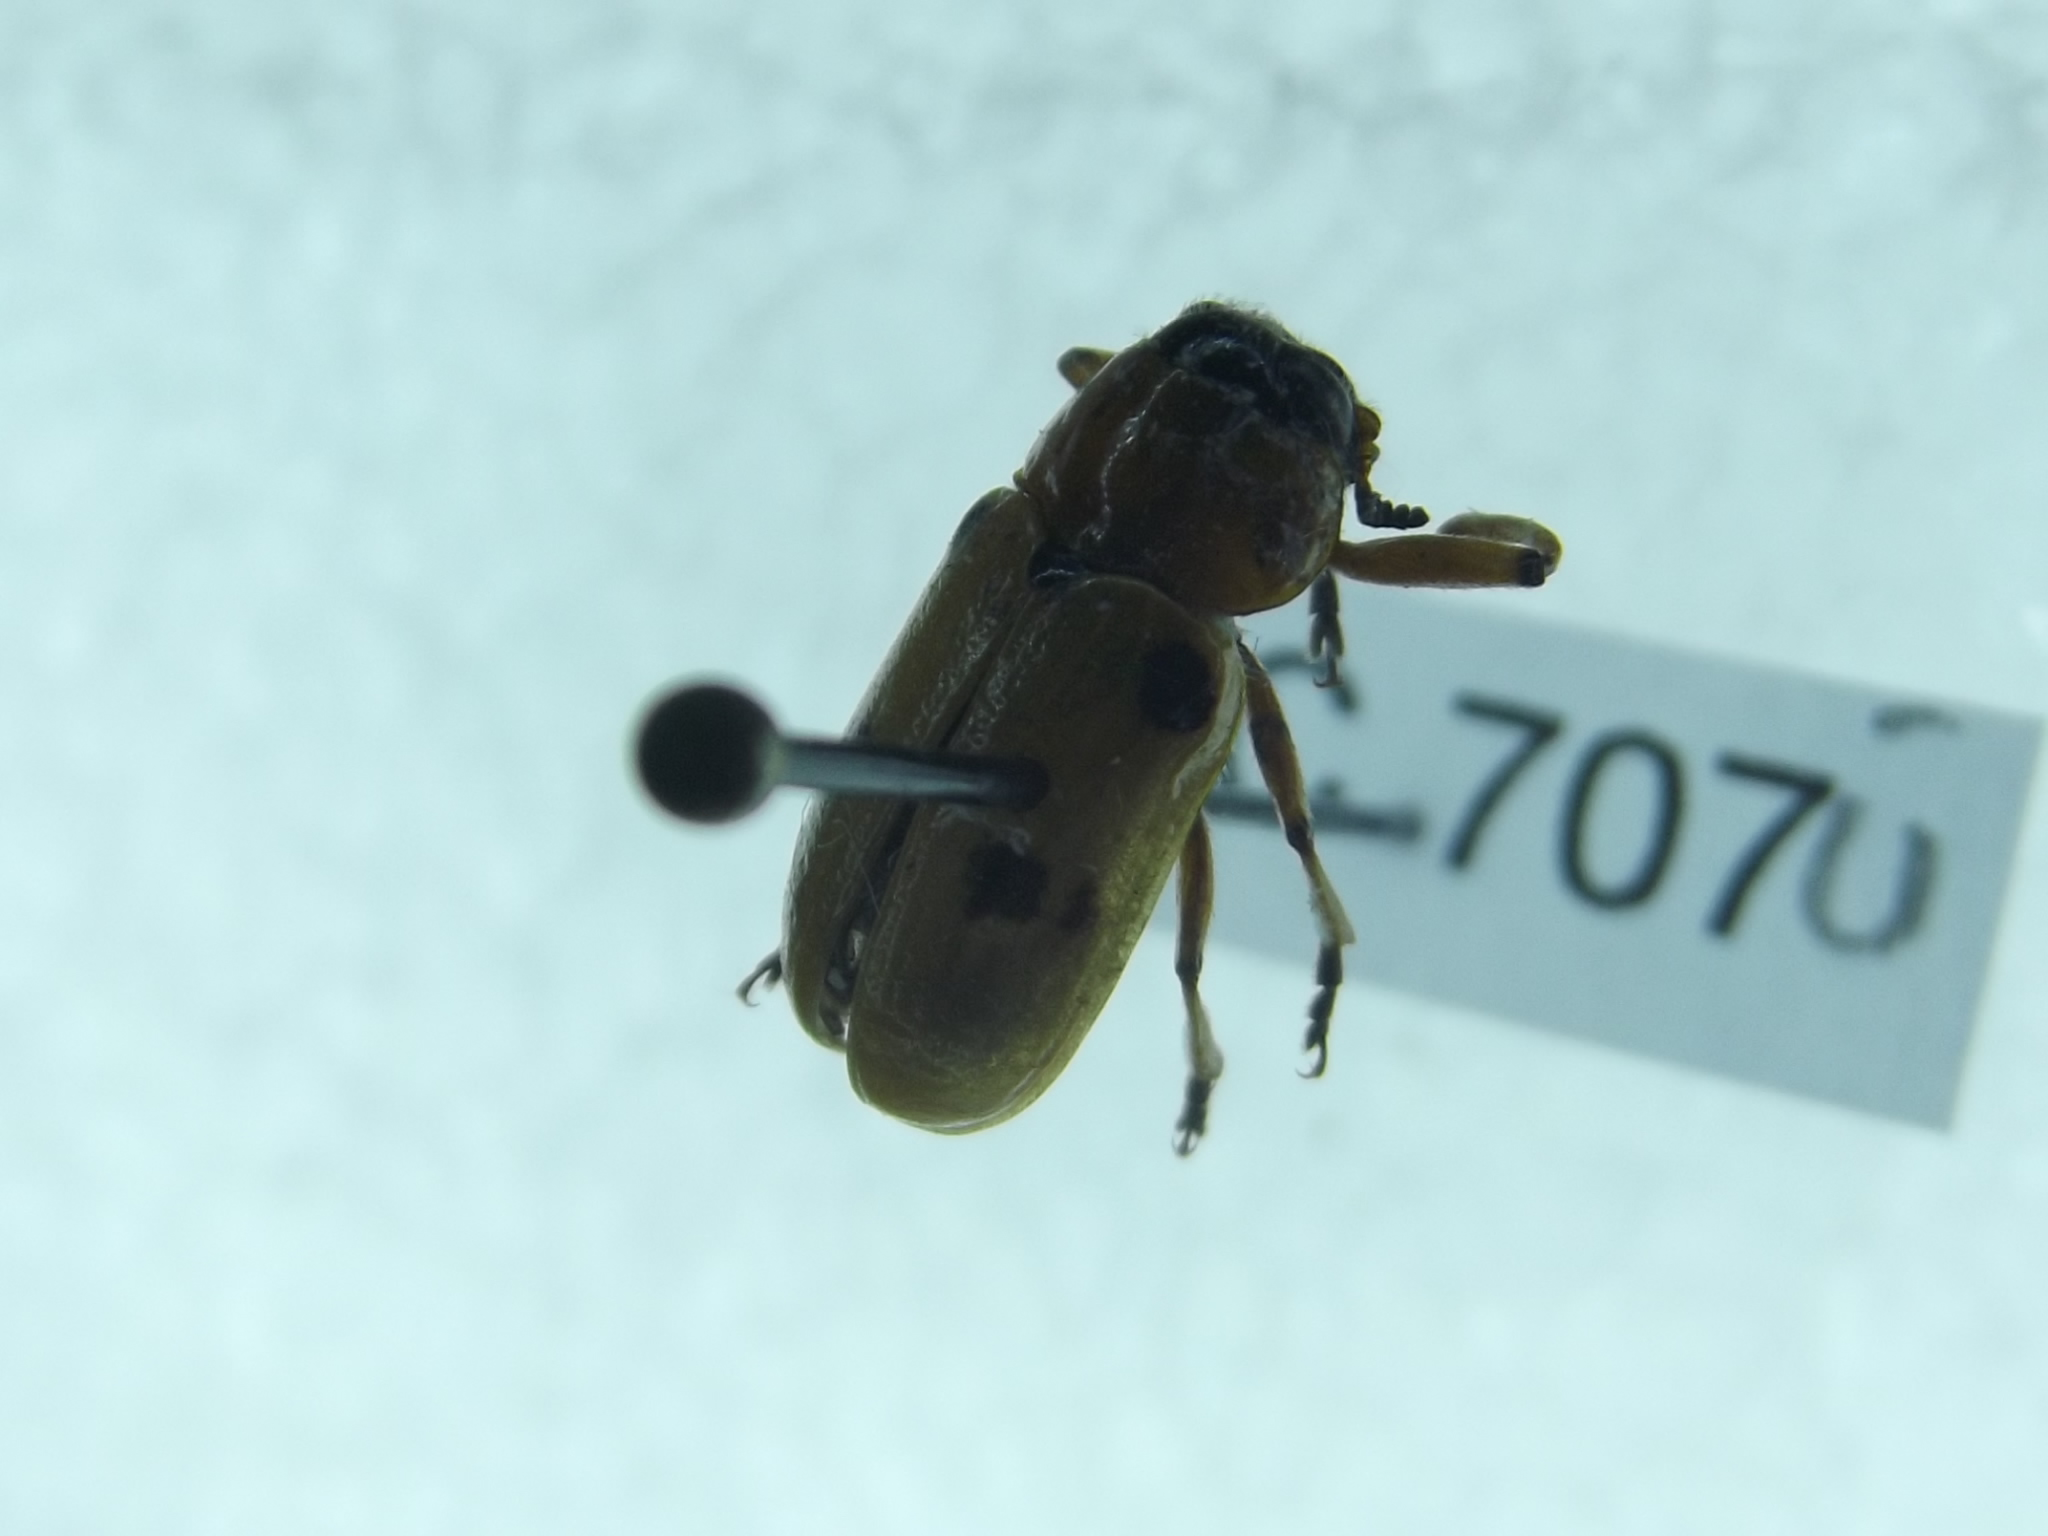Tituboea_macropus: (739, 265, 1587, 1183)
